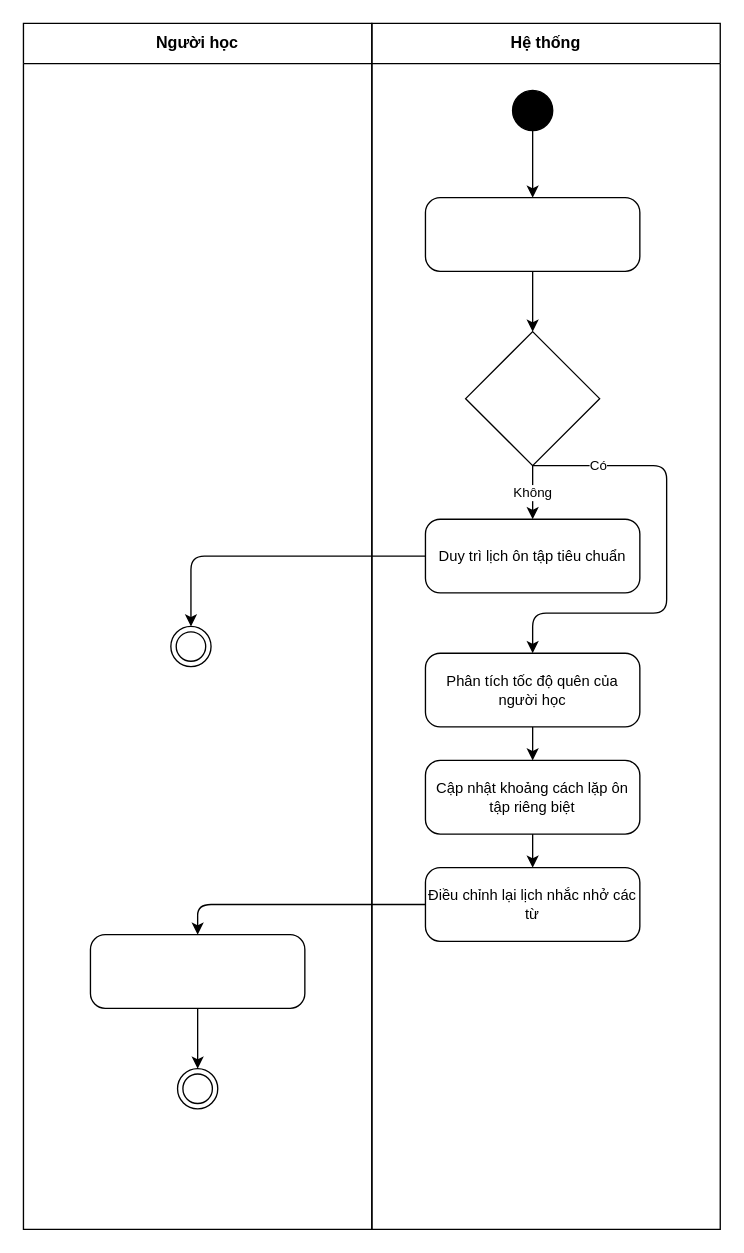
This 744x1253 diagram has some shape labels left out. The centre of each missing label's shape, as x and y in pixels:
Kiểm tra lịch sử ôn tập định kỳ: the point at 532,233
Nhận lịch nhắc nhở cá nhân hóa tối ưu: the point at 197,970
Đủ lượt ôn tập tối thiểu (>= 10)?: the point at 532,398
